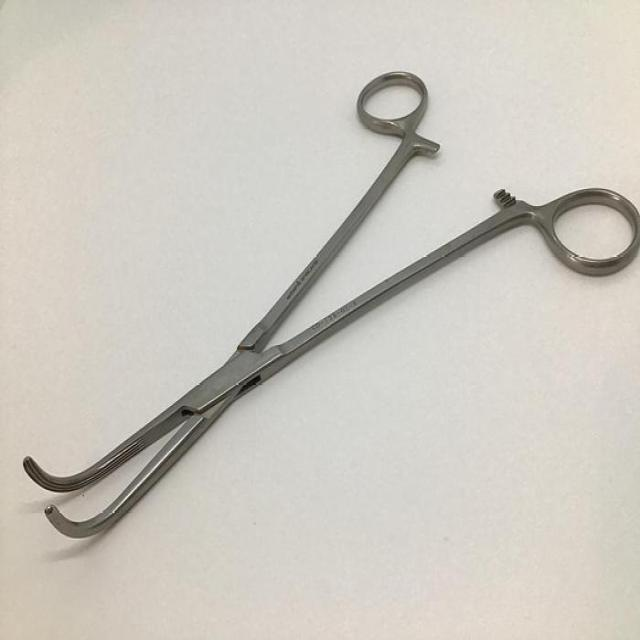Rectangle Cholecystectomy Forceps: (19, 49, 640, 561)
